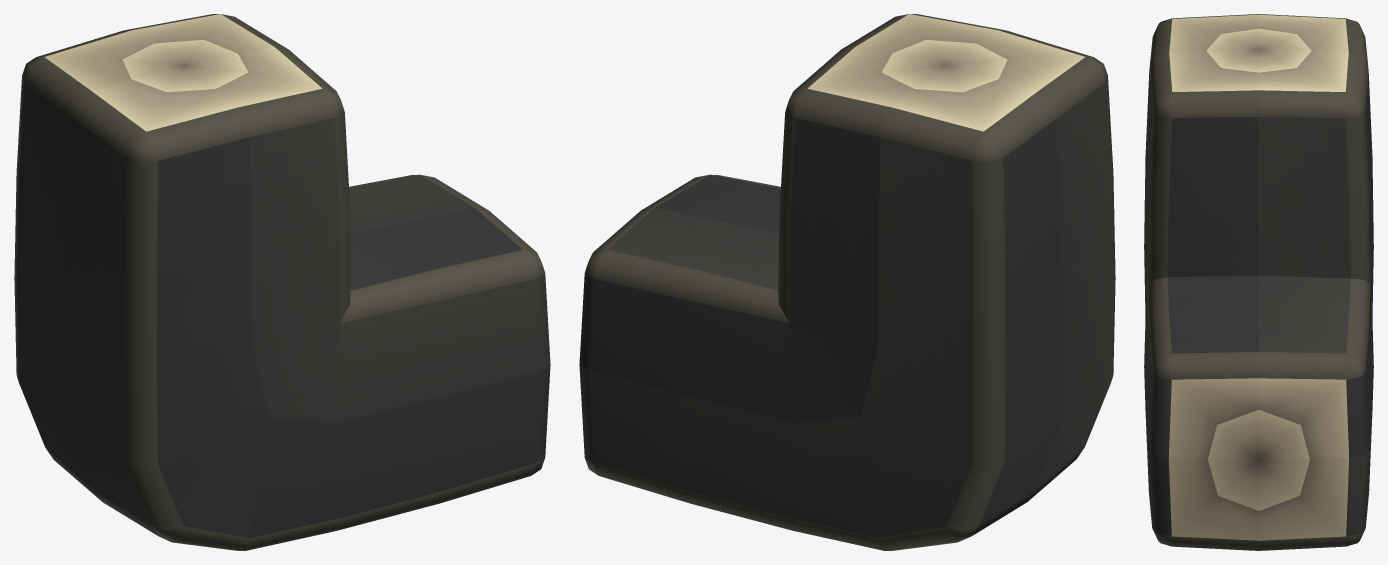
Rendered from ColdWood_Branch_L.fbx.
3 views of the same model, side by side, from view 1: azimuth 30°, elevation 25°; view 2: azimuth 150°, elevation 25°; view 3: azimuth 270°, elevation 25° (orthographic). The views are drawn at different scales.
Parts seen in each view (by area): view 1: ColdWood_Branch_L_LOD0; view 2: ColdWood_Branch_L_LOD0; view 3: ColdWood_Branch_L_LOD0.
Part boxes in pixels (<box>): ColdWood_Branch_L_LOD0: <box>14,14,550,550</box>; ColdWood_Branch_L_LOD0: <box>579,14,1115,550</box>; ColdWood_Branch_L_LOD0: <box>1144,14,1373,550</box>.
Size of what is drawn, in the model's own units: 1.08 by 1.08 by 0.5858.
